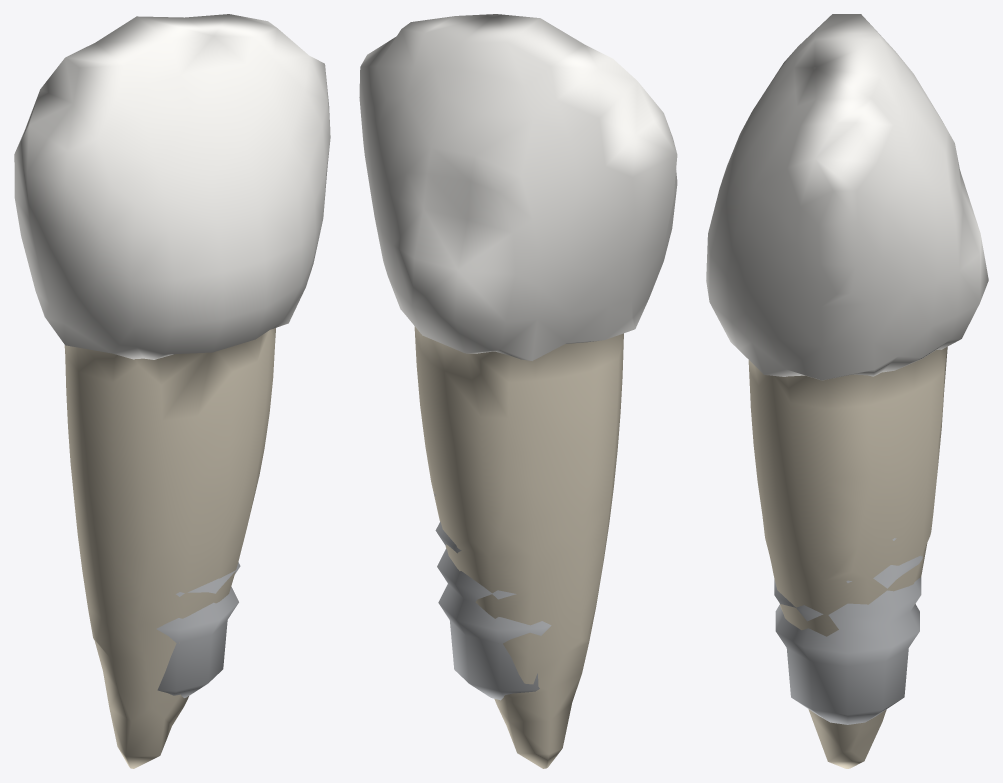
3 views of the same model, side by side, from view 1: azimuth 30°, elevation 25°; view 2: azimuth 150°, elevation 25°; view 3: azimuth 270°, elevation 25° (orthographic).
Parts seen in each view (by area): view 1: crown, root, implant; view 2: crown, root, implant; view 3: crown, root, implant.
Boxes of the visible parts, bbox=[...] form: crown: bbox=[14, 14, 330, 359]; root: bbox=[64, 328, 275, 768]; implant: bbox=[156, 562, 240, 697]; crown: bbox=[359, 14, 677, 360]; root: bbox=[414, 326, 623, 768]; implant: bbox=[434, 493, 551, 700]; crown: bbox=[706, 14, 988, 380]; root: bbox=[748, 347, 947, 768]; implant: bbox=[774, 538, 922, 724].
Size of the model in its own units: 7.05 by 16.26 by 5.63.
